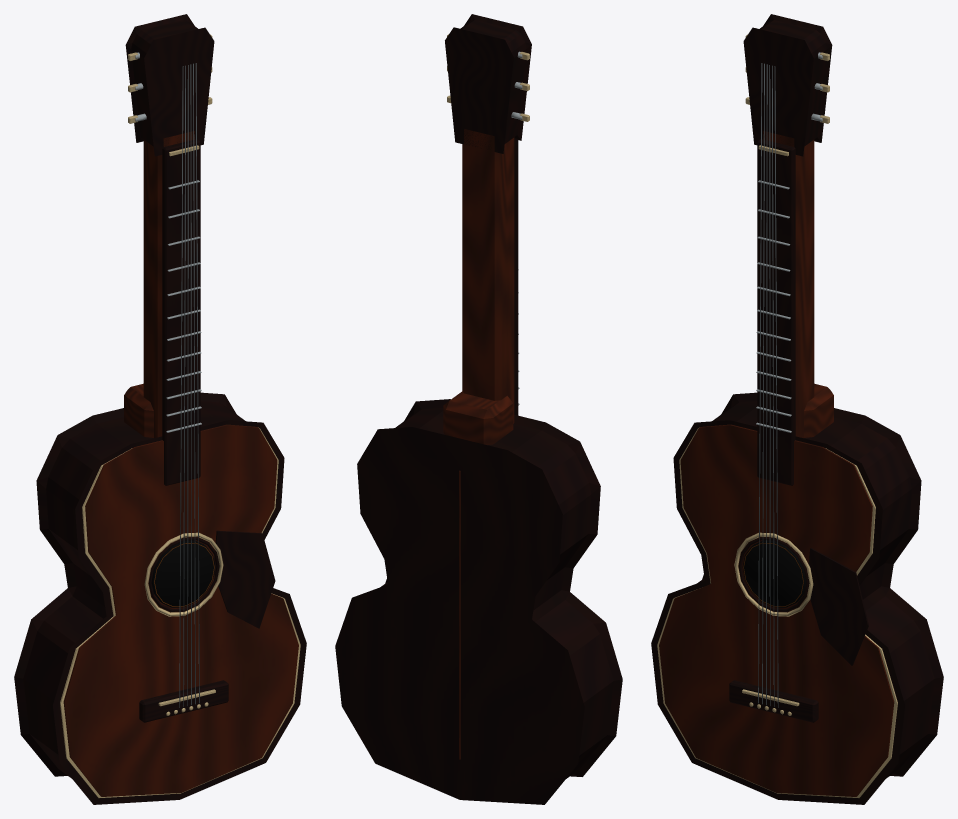
File: acoustic_guitar_LOD1.glb
3 renders of one model, left to right at view 1: azimuth 30°, elevation 25°; view 2: azimuth 150°, elevation 25°; view 3: azimuth 330°, elevation 25°, orthographic.
Visible parts, largest first — view 1: Bookmatched mahogany soundboard, Closed dreadnought body and sides, Tapered dark fretboard, Shaped headstock, Carved mahogany neck, Dark organic pickguard, Sound hole cavity, Ivory body binding, Carved bridge, Neck heel, String 3, Concentric sound hole rosette (+6 smaller); view 2: Closed dreadnought body and sides, Carved mahogany neck, Shaped headstock, Neck heel, Tapered dark fretboard, Inferred back center seam; view 3: Bookmatched mahogany soundboard, Closed dreadnought body and sides, Tapered dark fretboard, Shaped headstock, Carved mahogany neck, Dark organic pickguard, Sound hole cavity, Ivory body binding, Carved bridge, Neck heel, String 4, Concentric sound hole rosette (+6 smaller).
Boxes of the visible parts, x1,y1,x2,y2 form: Bookmatched mahogany soundboard: (63,424,298,796); Closed dreadnought body and sides: (14,392,306,804); Tapered dark fretboard: (162,139,200,485); Shaped headstock: (125,14,214,156); Carved mahogany neck: (143,131,194,438); Dark organic pickguard: (214,530,275,628); Sound hole cavity: (151,540,215,607); Ivory body binding: (60,427,300,797); Carved bridge: (139,680,228,722); Neck heel: (124,383,153,437); String 3: (187,65,188,705); Concentric sound hole rosette: (144,532,223,616); Closed dreadnought body and sides: (335,399,622,804); Carved mahogany neck: (462,129,514,423); Shaped headstock: (445,14,531,153); Neck heel: (443,391,513,444); Tapered dark fretboard: (514,139,518,415); Inferred back center seam: (459,470,460,759); Bookmatched mahogany soundboard: (659,424,894,796); Closed dreadnought body and sides: (651,392,943,804); Tapered dark fretboard: (757,139,795,485); Shaped headstock: (743,14,832,156); Carved mahogany neck: (763,131,814,438); Dark organic pickguard: (807,548,868,665); Sound hole cavity: (742,540,806,607); Ivory body binding: (657,427,897,797); Carved bridge: (729,680,818,722); Neck heel: (804,383,833,437); String 4: (769,65,770,705); Concentric sound hole rosette: (734,532,813,616).
Bounding box in the file's own units: 0.3983 × 1.15 × 0.1336.
7 materials, 7 textured.
